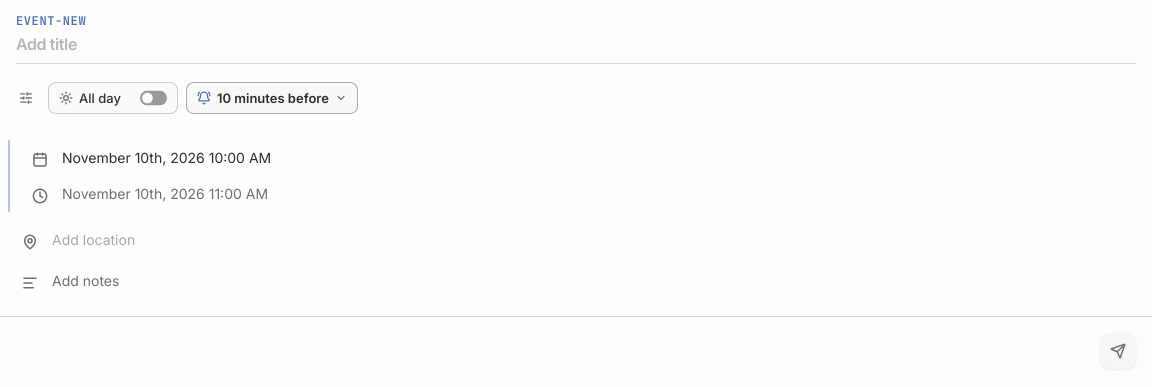
Test case: EventView standalone component › triggers onClose upon successful form submission
Later steps or results of the test are not shown.
In the field with placeholder "Add title": (576, 48) [16,31,1136,64], type "New Design Sync"
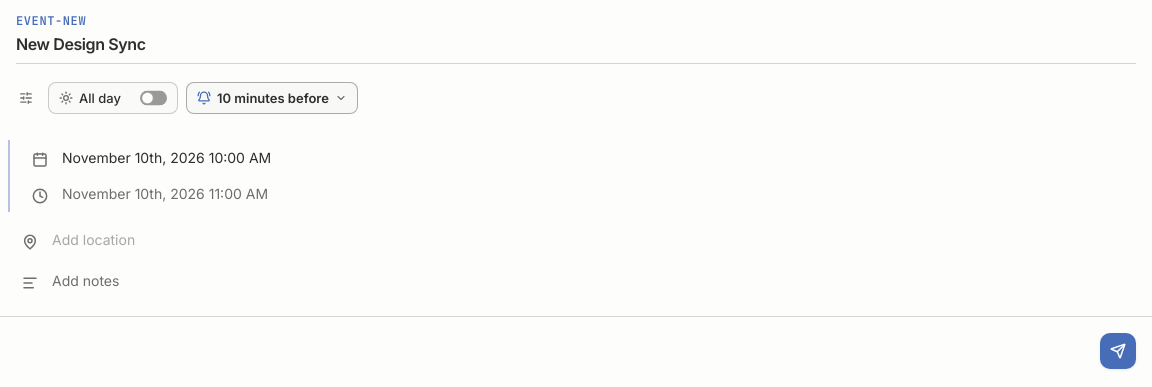
Result: the button named "create event" is enabled at [1100,333,1136,369]
